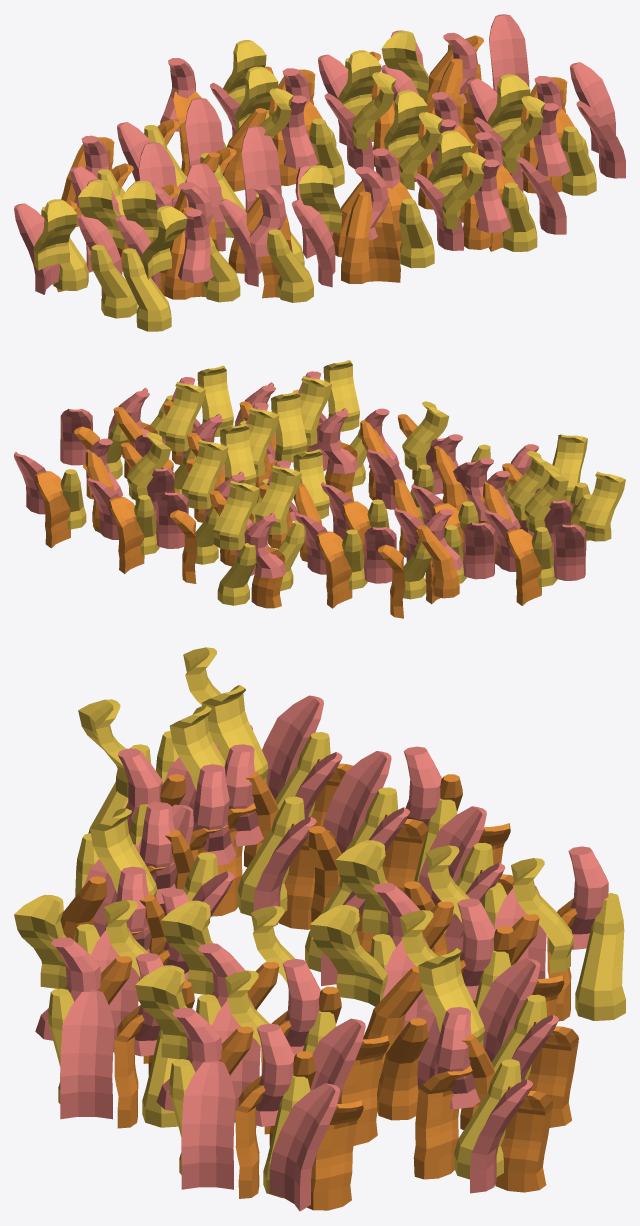
The model's file is Gras 2.3.fbx.
The picture shows the model from 3 angles, top to bottom: view 1: azimuth 30°, elevation 25°; view 2: azimuth 150°, elevation 25°; view 3: azimuth 270°, elevation 25°; orthographic projection. The views are drawn at different scales.
Parts seen in each view (by area): view 1: Cube.415; view 2: Cube.415; view 3: Cube.415.
Boxes of the visible parts, x1=… form: Cube.415: x1=14, y1=14, x2=625, y2=331; Cube.415: x1=14, y1=360, x2=625, y2=618; Cube.415: x1=14, y1=647, x2=625, y2=1211.
Bounding box in the file's own units: 3801 × 745 × 2337.
